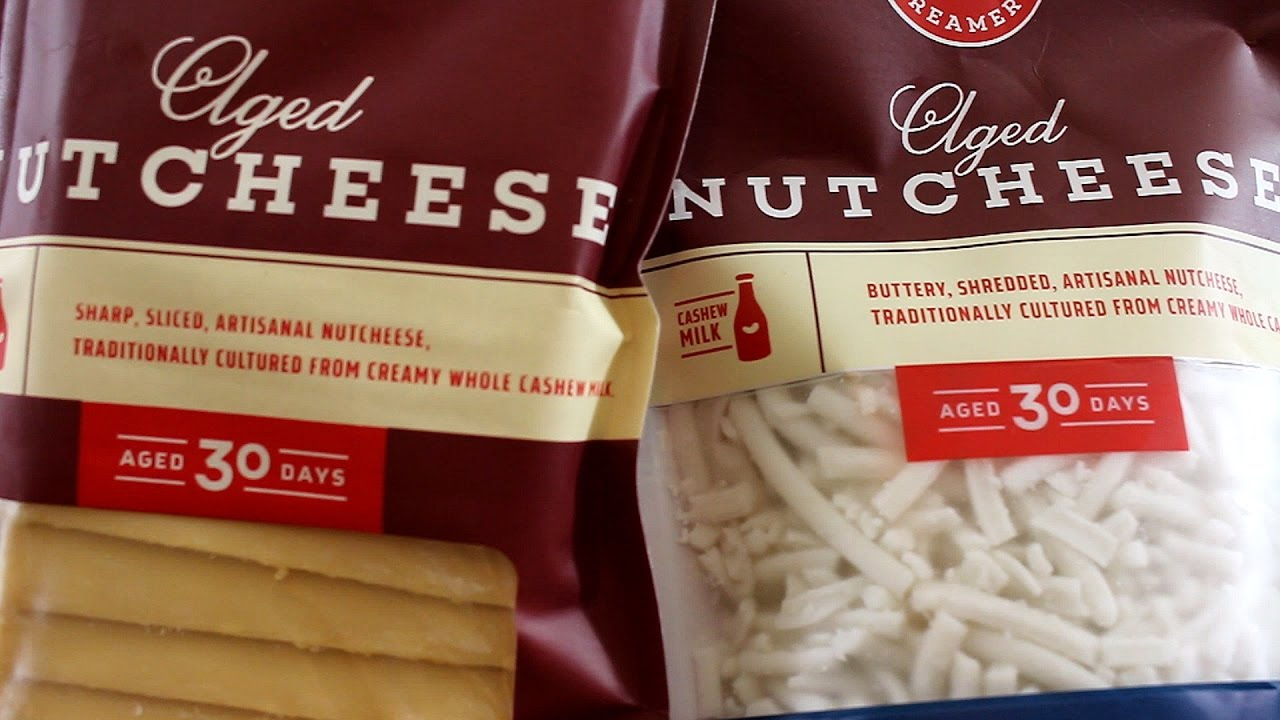cheese: (44, 54, 1260, 710)
